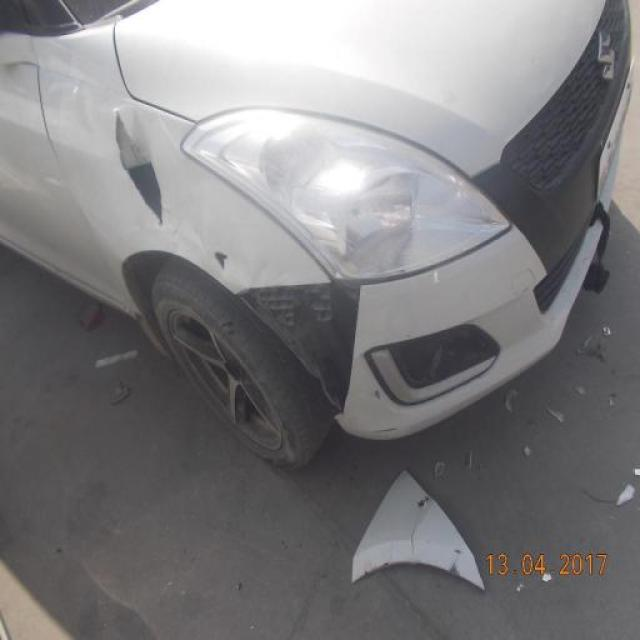scratch: (209, 243, 236, 271)
tear: (235, 285, 361, 422), (115, 109, 166, 239)
